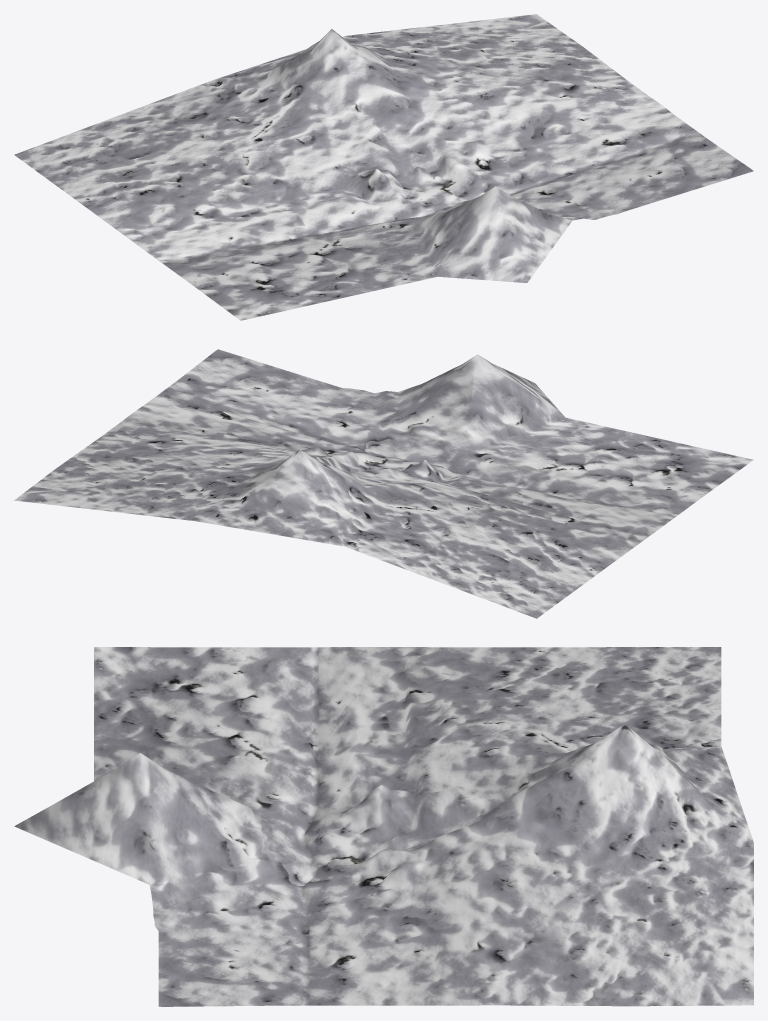
Rendered from Mountains.dae.
The picture shows the model from 3 angles, top to bottom: view 1: azimuth 30°, elevation 25°; view 2: azimuth 150°, elevation 25°; view 3: azimuth 270°, elevation 25°; orthographic projection. The views are drawn at different scales.
Parts seen in each view (by area): view 1: Plane; view 2: Plane; view 3: Plane.
Part boxes in pixels (left/top/right/bottom): Plane: left=14, top=14, right=753, bottom=320; Plane: left=14, top=349, right=753, bottom=618; Plane: left=14, top=647, right=753, bottom=1006.
Size of the model in its own units: 1040 by 898 by 178.
1 material, 1 textured.
